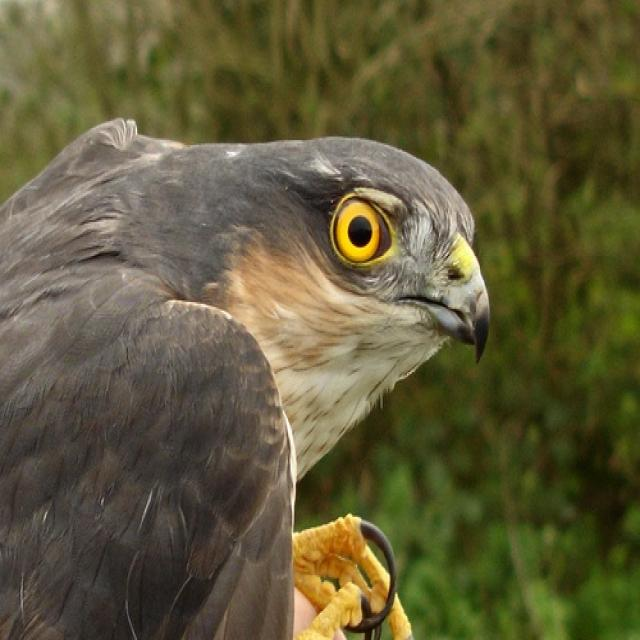bird: (1, 116, 489, 638)
